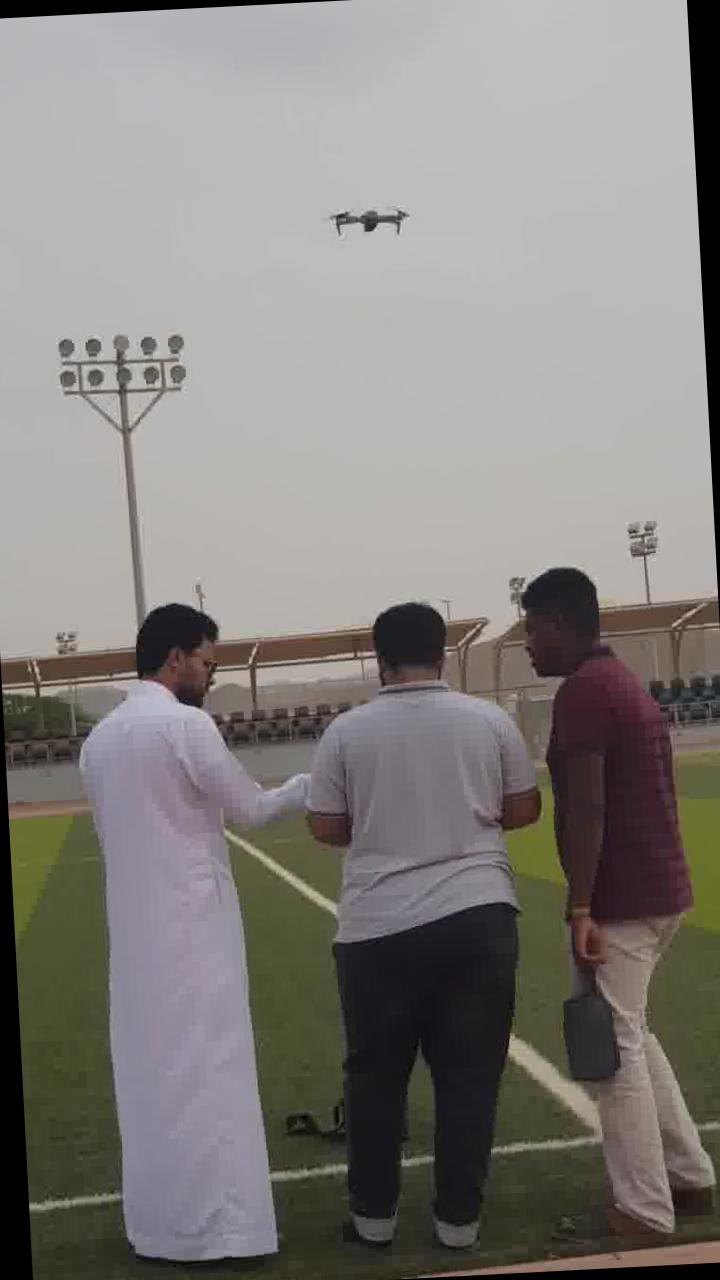drone: (321, 193, 410, 239)
